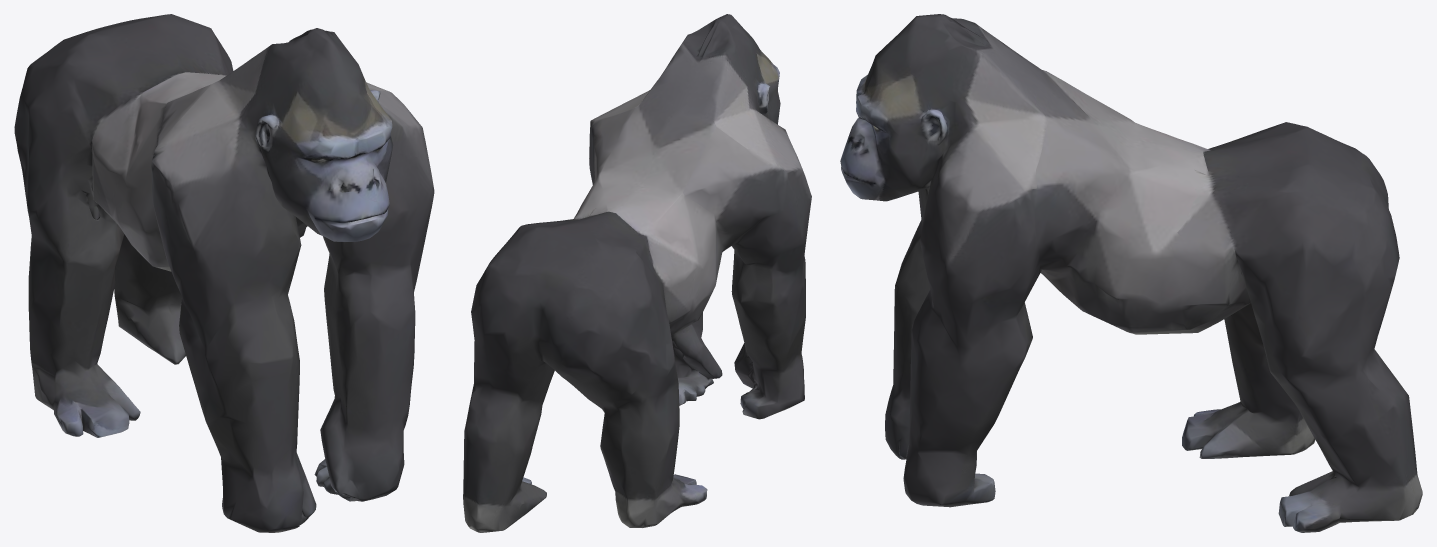
File: gorira.glb
3 renders of one model, left to right at view 1: azimuth 30°, elevation 25°; view 2: azimuth 150°, elevation 25°; view 3: azimuth 270°, elevation 25°, orthographic. The views are drawn at different scales.
Visible parts, largest first — view 1: tripo_node_3994b393-80de-4e3b-a1f5-6ae9bc7e997f; view 2: tripo_node_3994b393-80de-4e3b-a1f5-6ae9bc7e997f; view 3: tripo_node_3994b393-80de-4e3b-a1f5-6ae9bc7e997f.
Boxes of the visible parts, x1,y1,x2,y2 form: tripo_node_3994b393-80de-4e3b-a1f5-6ae9bc7e997f: (14,14,434,532); tripo_node_3994b393-80de-4e3b-a1f5-6ae9bc7e997f: (463,14,811,532); tripo_node_3994b393-80de-4e3b-a1f5-6ae9bc7e997f: (840,14,1422,532).
Size of the model in its own units: 0.4863 by 0.8839 by 1.
1 material, 1 textured.
